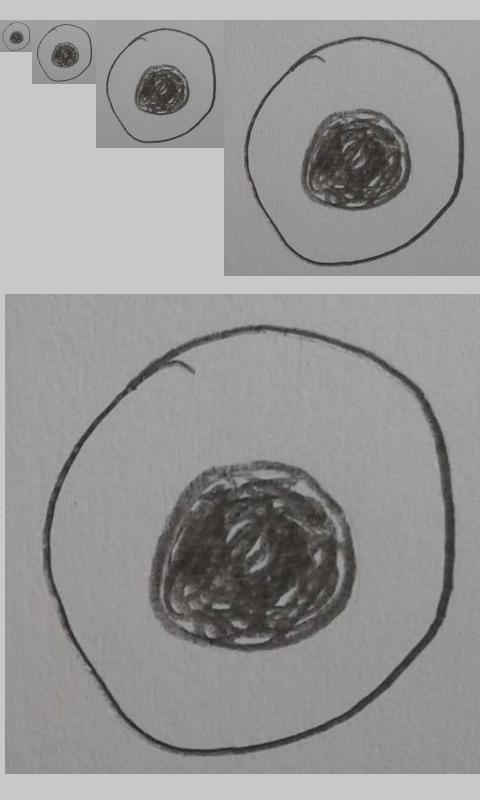radio_button: (37, 322, 459, 761), (243, 33, 464, 272), (104, 27, 217, 144), (36, 22, 93, 83), (1, 21, 31, 52)
